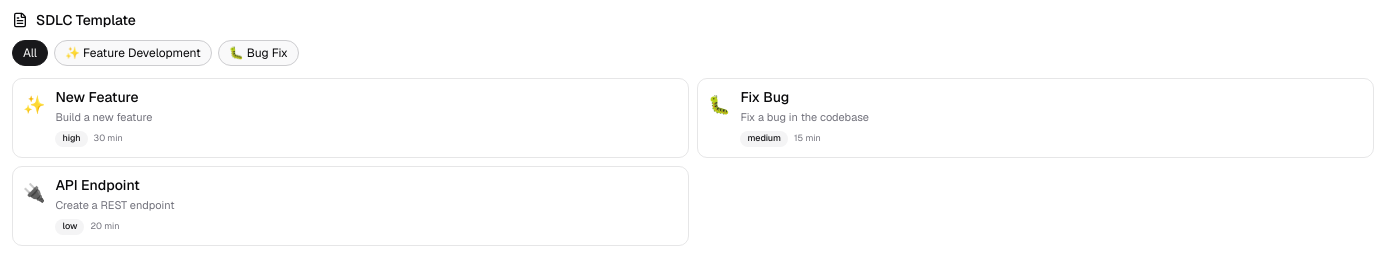
TemplatePicker › shows Clear link after selecting a template
The image size is (1390, 263).
Expected: the text "Clear" is not shown
What coordinates should you click on to do the following:
click the text "Fix Bug"
I would click on:
 (765, 97)
Its box is [740, 88, 789, 106].
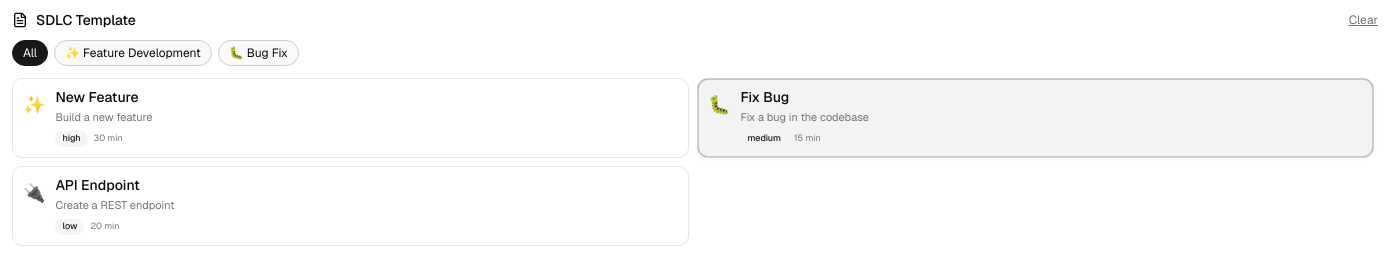
Expected: the button "Clear" is shown, [1349, 12, 1378, 28]
